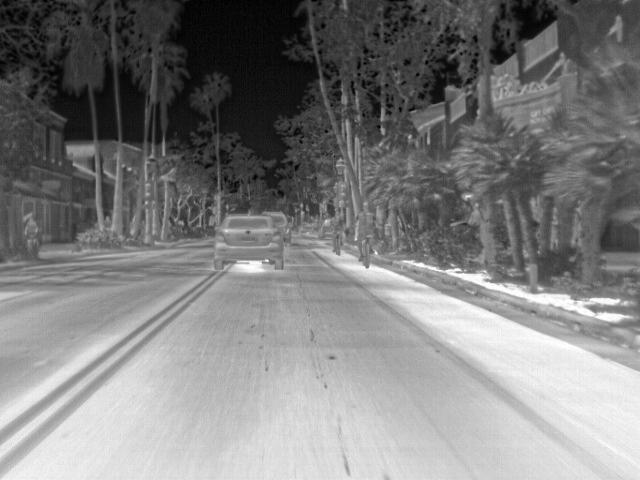car: (212, 213, 284, 271), (266, 212, 292, 246), (318, 220, 330, 238)
person: (356, 200, 377, 260), (329, 206, 349, 248), (22, 216, 40, 252), (100, 212, 113, 231)
